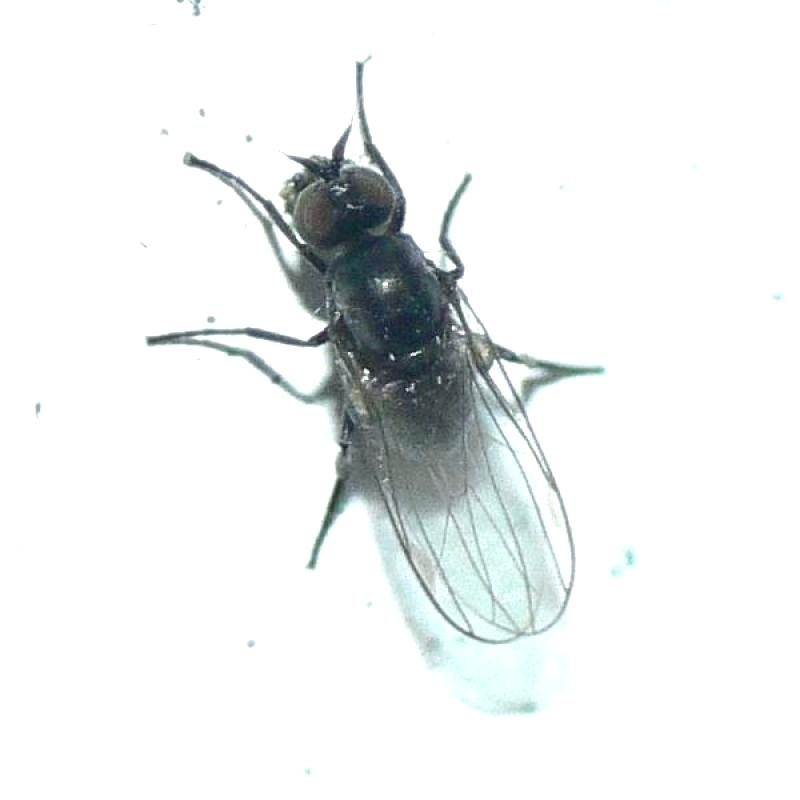house fly: (141, 49, 610, 657)
